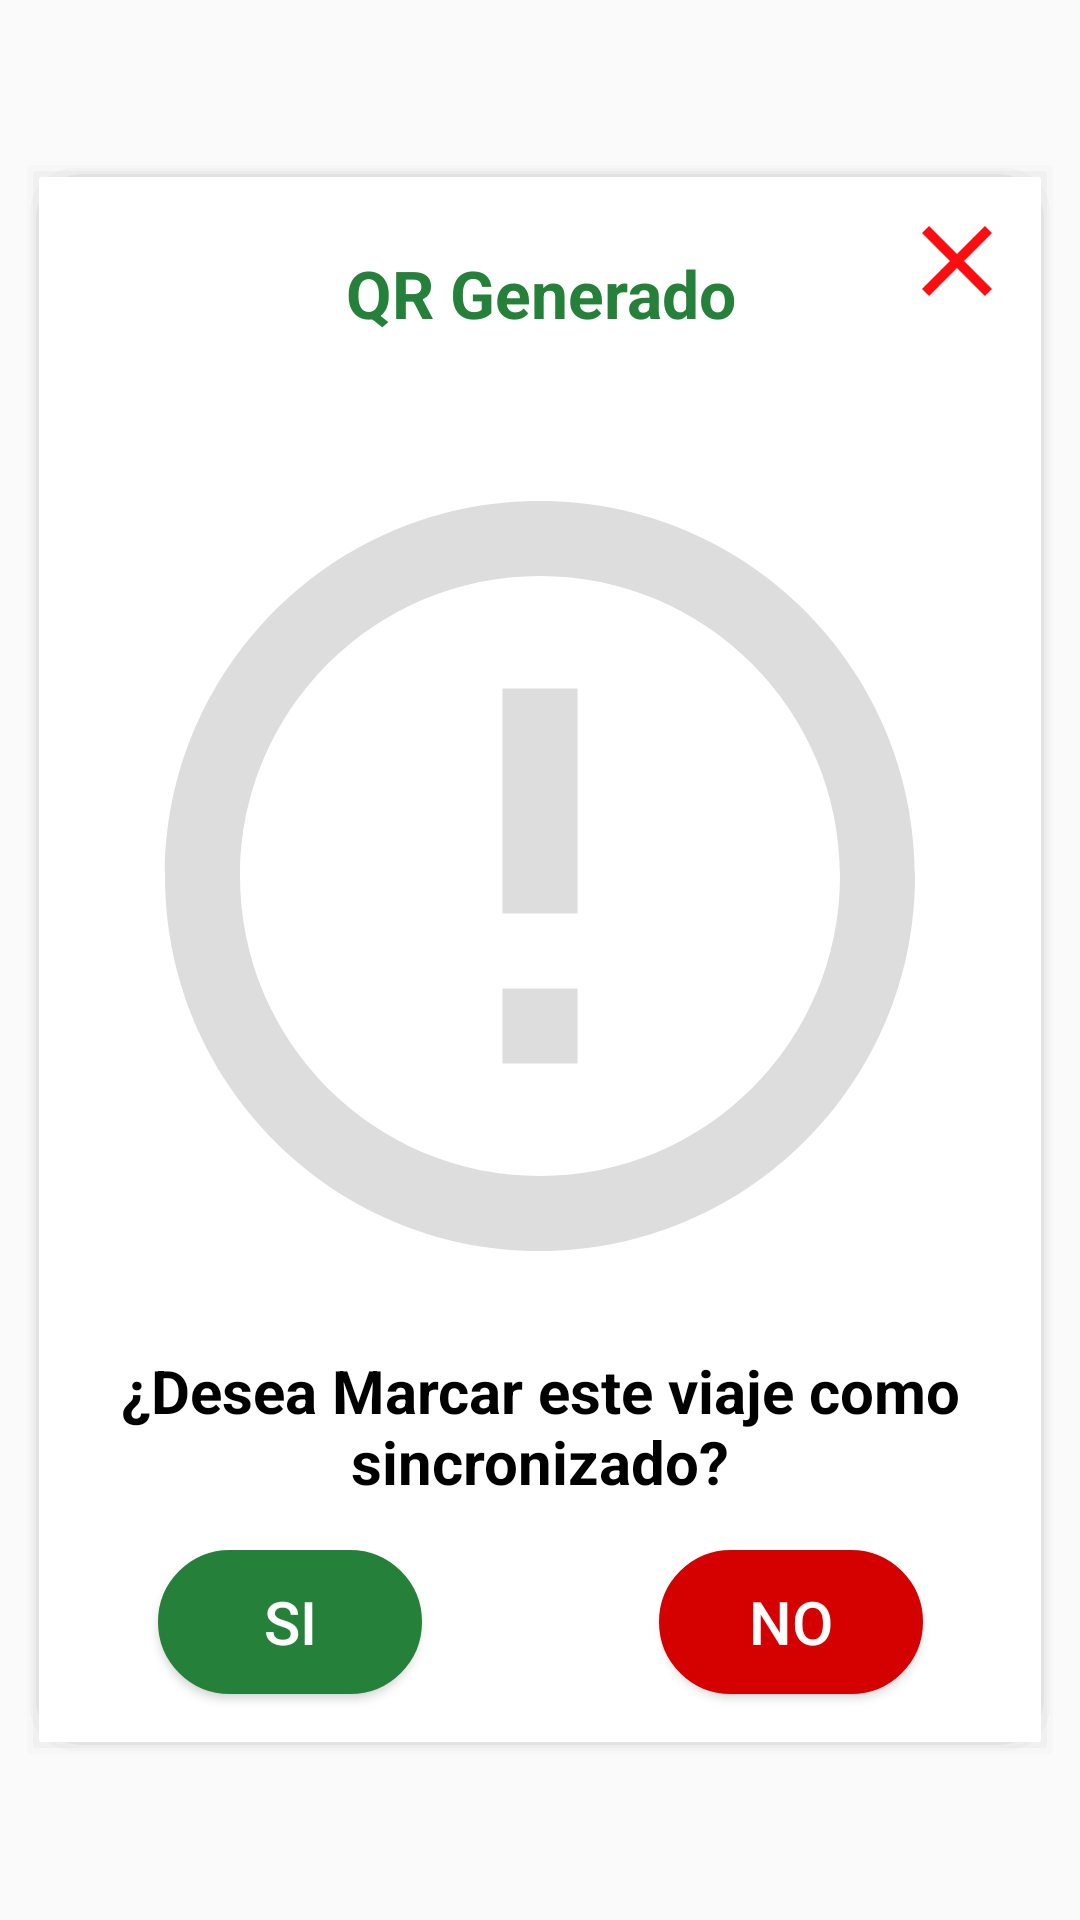

Icon click points for this 1080×1920 phone screenshot, format [x,y]:
delete: [957,261]
